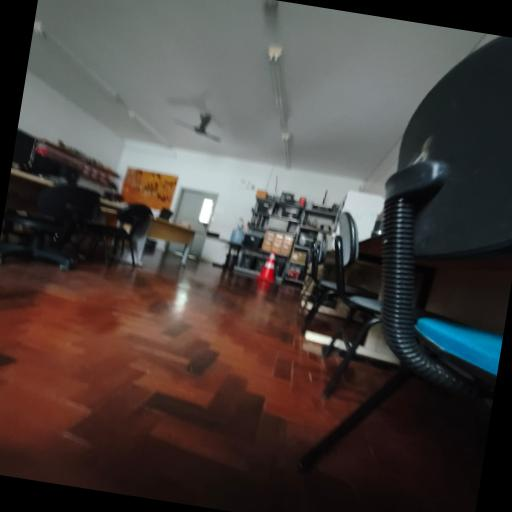cone: (254, 247, 284, 287)
